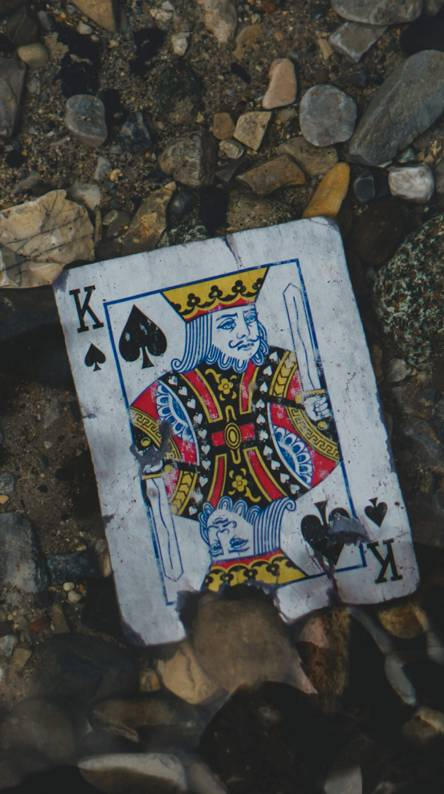king of spades: (51, 214, 417, 640)
